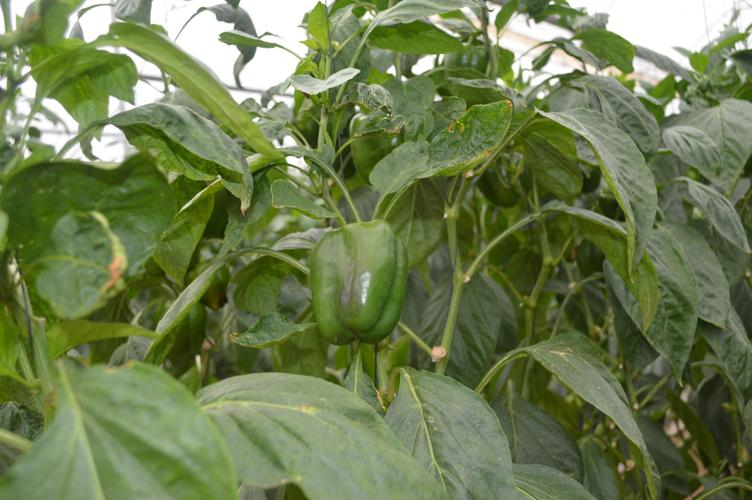BellPepper: (295, 212, 418, 349)
